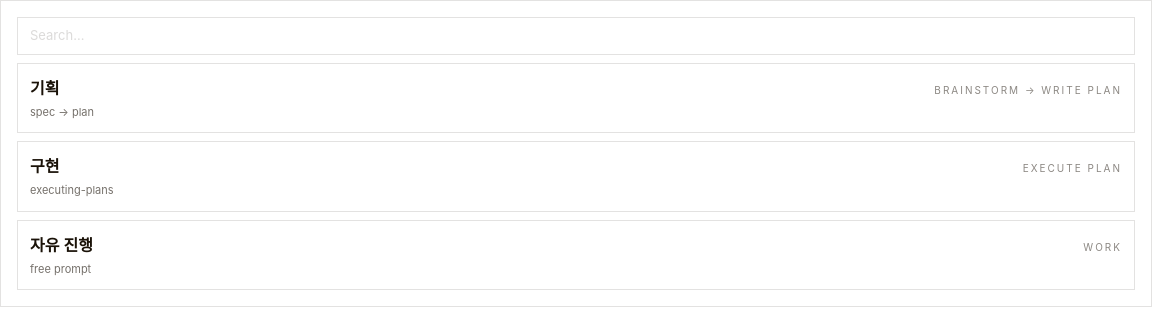
<PackagePicker> › 매칭이 없으면 No matches 안내
In the search field: (576, 36) x1=17 y1=17 x2=1135 y2=54, type "zzzz"
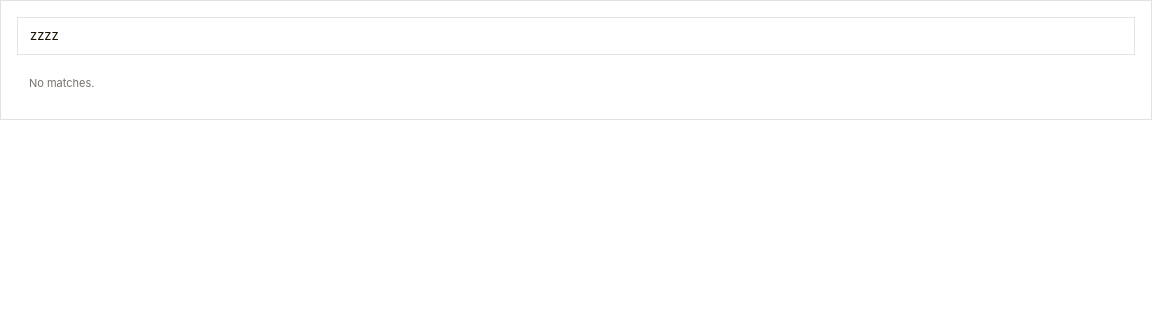
Result: the text "No matches." is shown at x1=29 y1=76 x2=94 y2=90
